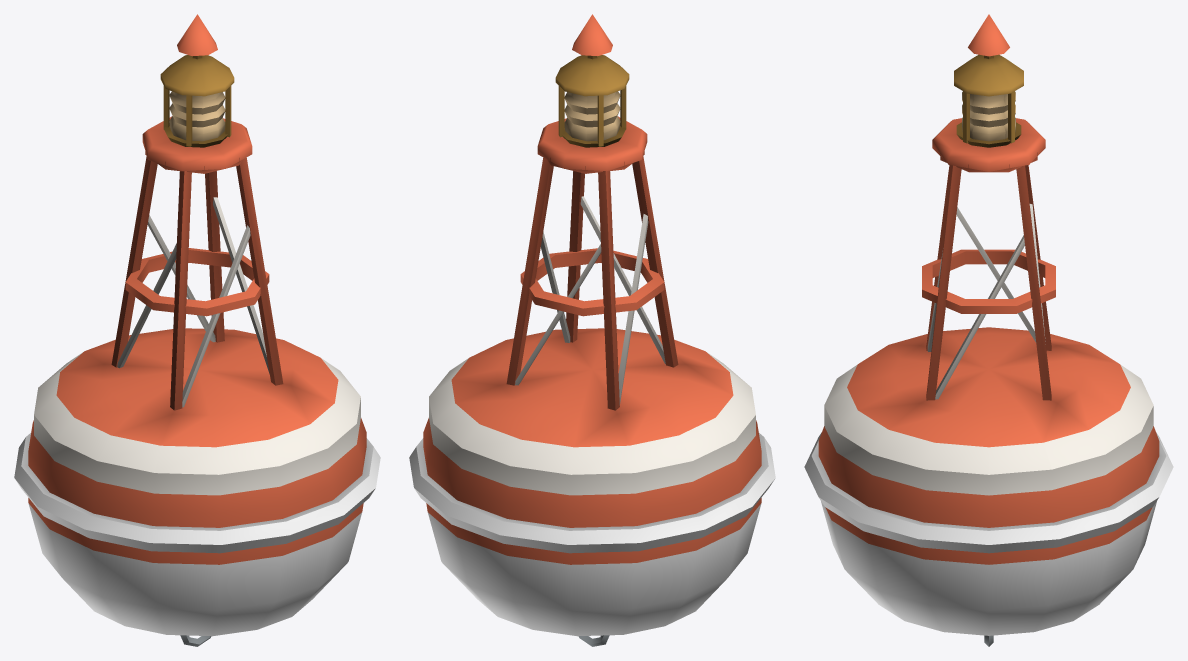
Rendered from buoy.fbx.
3 renders of one model, left to right at view 1: azimuth 30°, elevation 25°; view 2: azimuth 150°, elevation 25°; view 3: azimuth 270°, elevation 25°, orthographic.
Visible parts, largest first — view 1: buoy; view 2: buoy; view 3: buoy.
Boxes of the visible parts, x1=… form: buoy: x1=14, y1=14, x2=380, y2=646; buoy: x1=409, y1=14, x2=775, y2=646; buoy: x1=804, y1=14, x2=1173, y2=646.
Size of the model in its own units: 1.3 by 2.46 by 1.3.
